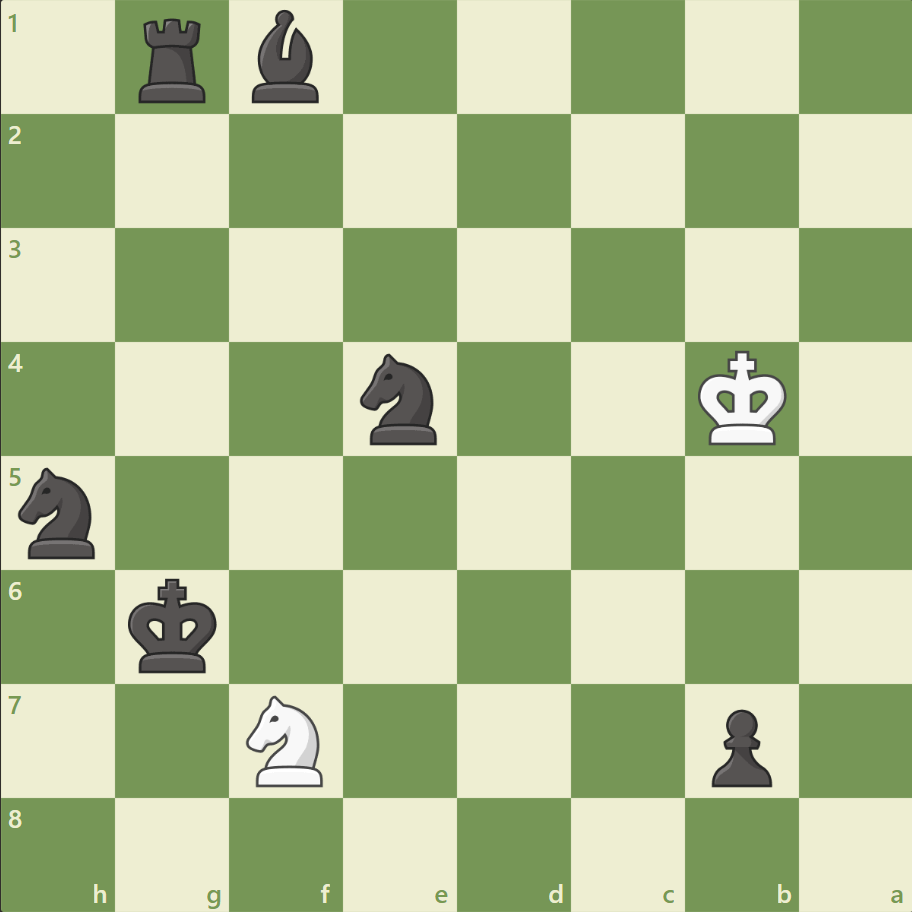K: (692, 344, 792, 452)
N: (238, 688, 335, 791)
b: (244, 6, 328, 109)
k: (124, 571, 224, 679)
n: (351, 348, 449, 450), (11, 461, 108, 564)
p: (701, 700, 776, 791)
r: (133, 12, 215, 109)
